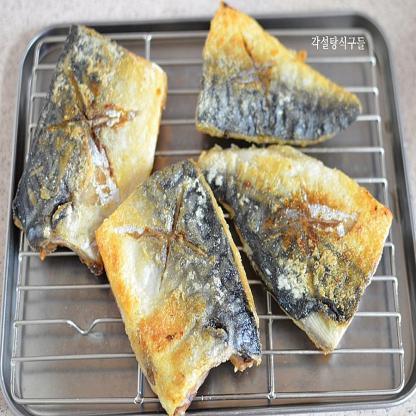Peixe: (19, 10, 390, 401)
